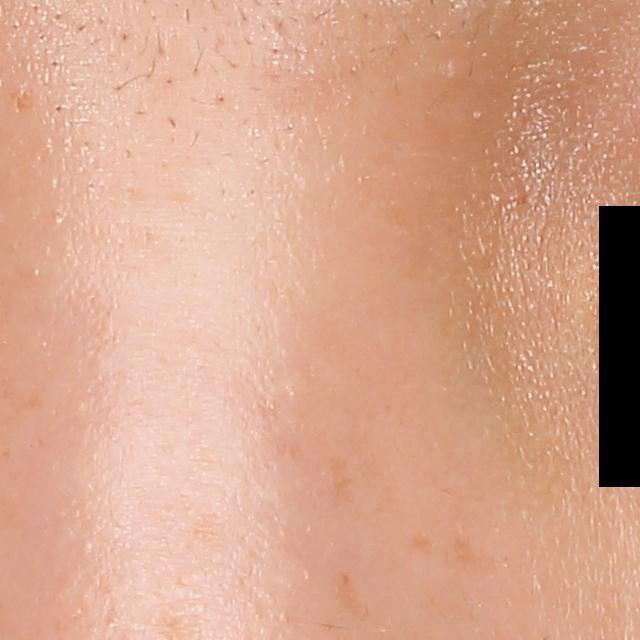melasma: (442, 527, 497, 578), (336, 572, 369, 621), (328, 453, 358, 500), (409, 527, 439, 557)
